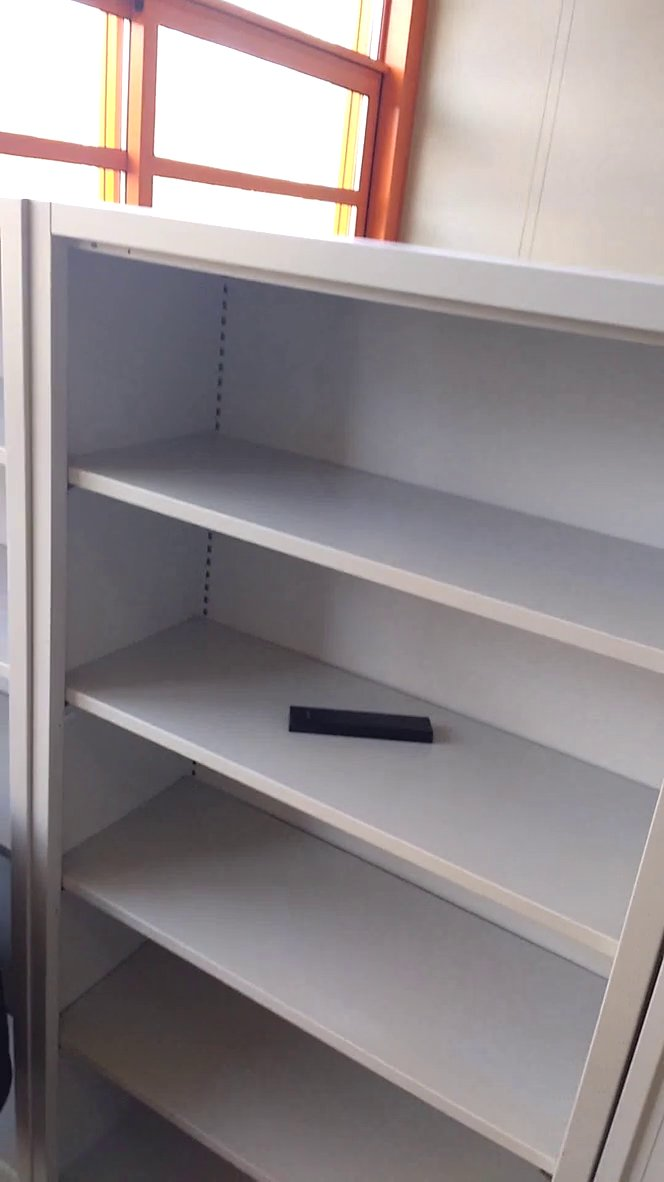remote: (275, 698, 440, 753)
